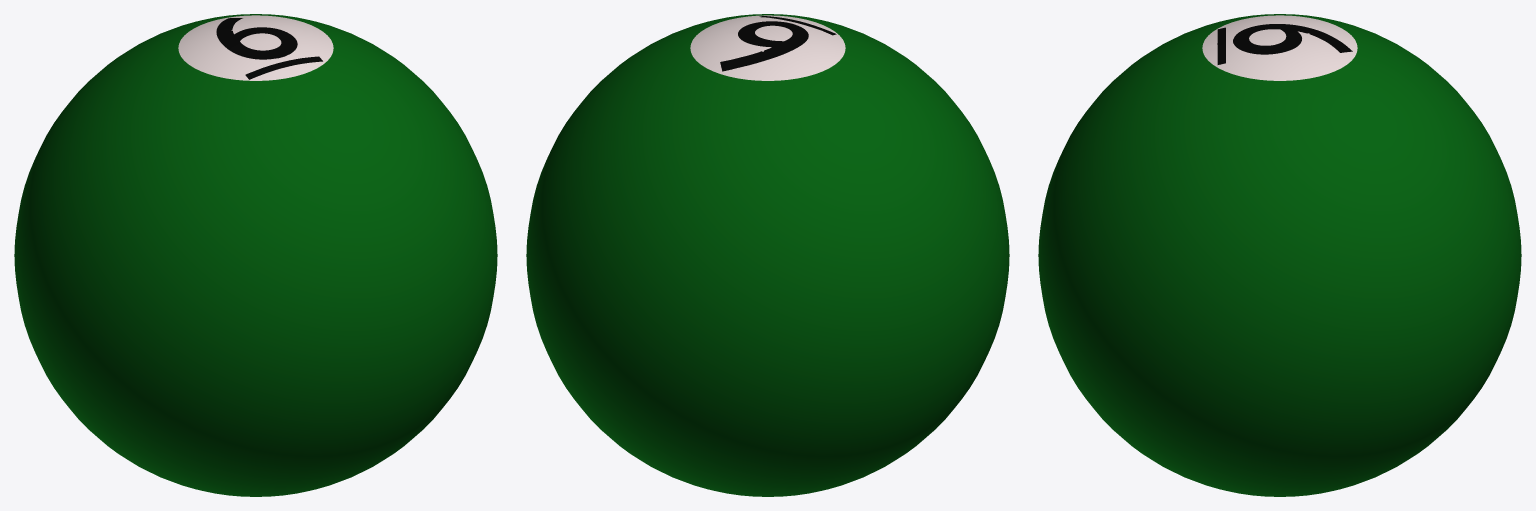
File: sixBall.glb
The picture shows the model from 3 angles, left to right: view 1: azimuth 30°, elevation 25°; view 2: azimuth 150°, elevation 25°; view 3: azimuth 270°, elevation 25°; orthographic projection.
Visible parts, largest first — view 1: Sphere; view 2: Sphere; view 3: Sphere.
Boxes of the visible parts, x1=… form: Sphere: x1=14, y1=14, x2=497, y2=496; Sphere: x1=526, y1=14, x2=1009, y2=496; Sphere: x1=1038, y1=14, x2=1521, y2=496.
Size of the model in its own units: 0.127 by 0.127 by 0.127.
